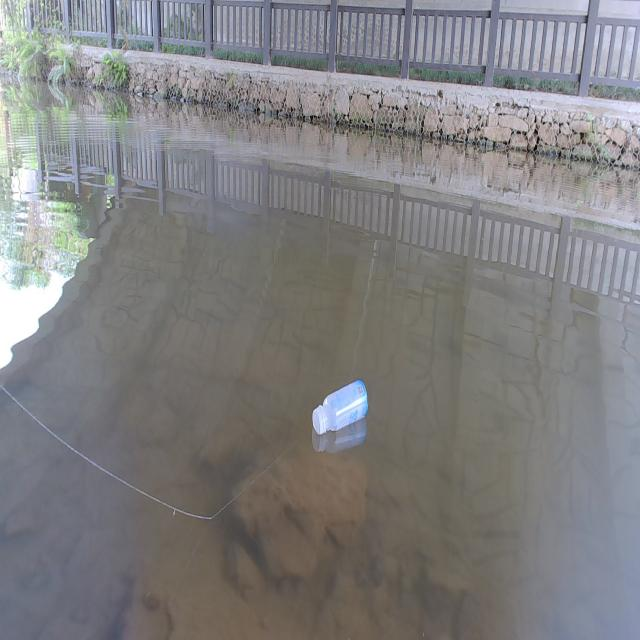Bottle: (311, 377, 368, 435)
